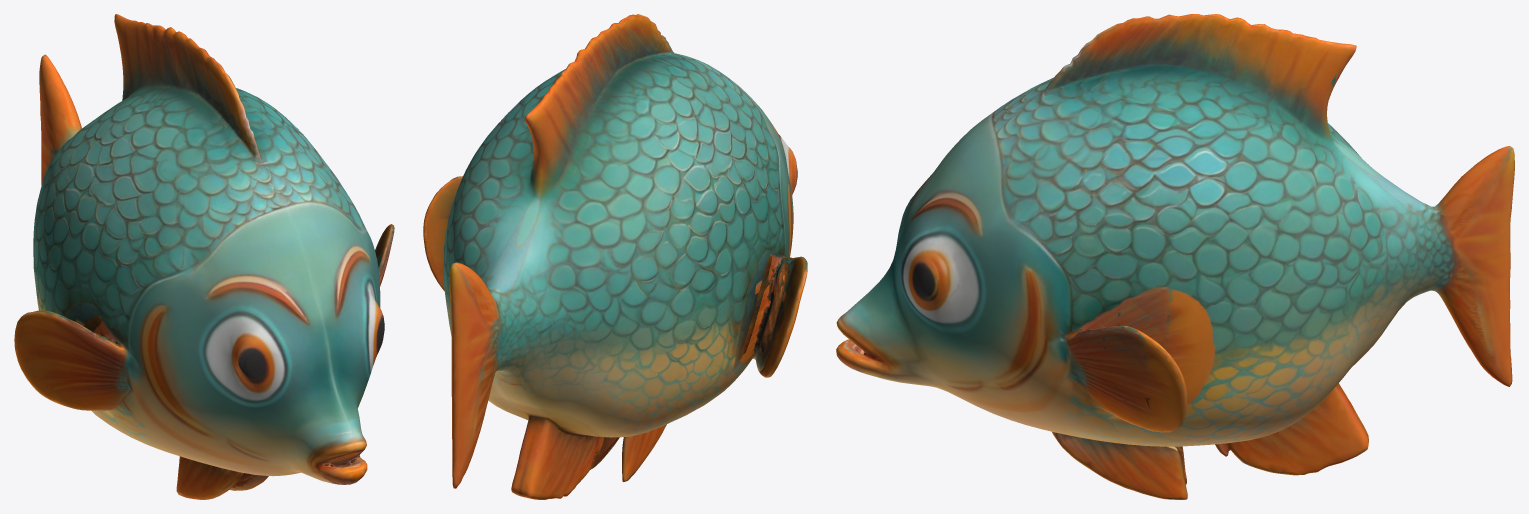
File: fish.glb
3 renders of one model, left to right at view 1: azimuth 30°, elevation 25°; view 2: azimuth 150°, elevation 25°; view 3: azimuth 270°, elevation 25°, orthographic. The views are drawn at different scales.
Parts seen in each view (by area): view 1: Mesh1.0; view 2: Mesh1.0; view 3: Mesh1.0.
Boxes of the visible parts, <box> form: Mesh1.0: <box>14,14,394,499</box>; Mesh1.0: <box>423,14,807,499</box>; Mesh1.0: <box>836,14,1514,499</box>.
Bounding box in the file's own units: 1.36 × 1.56 × 2.
Materials: 1 (1 with a texture image).
